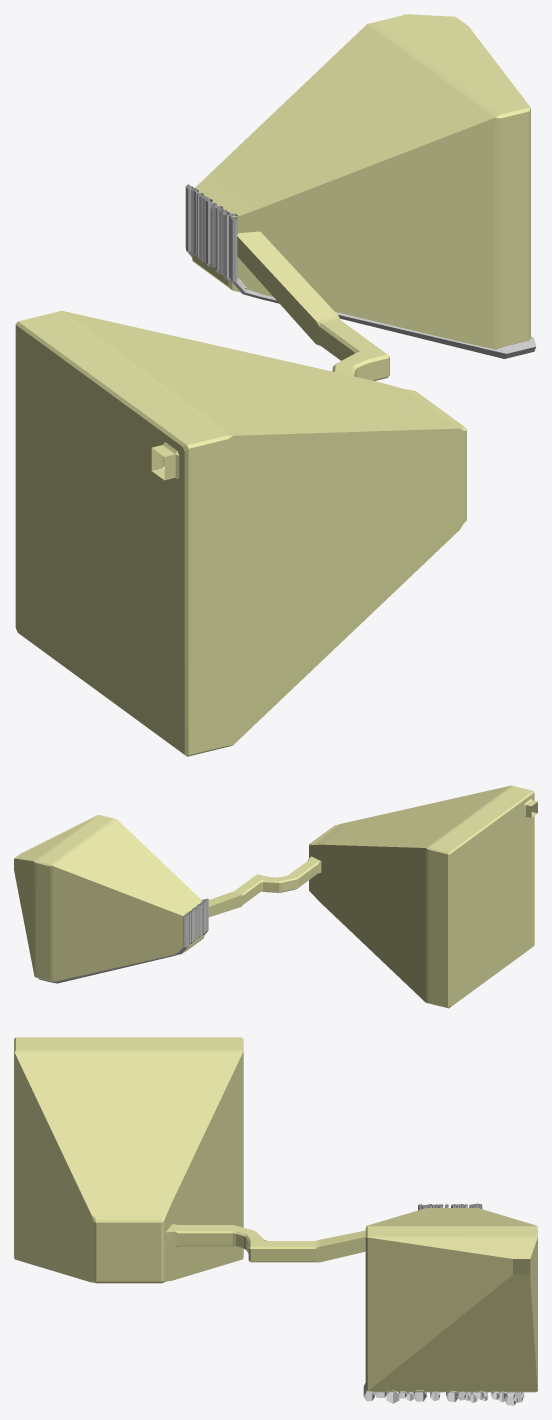
The model's file is Relay-Detail.fbx.
3 views of the same model, one above another, from view 1: azimuth 30°, elevation 25°; view 2: azimuth 150°, elevation 25°; view 3: azimuth 270°, elevation 25° (orthographic). The views are drawn at different scales.
Parts seen in each view (by area): view 1: 6-RelayDetail; view 2: 6-RelayDetail; view 3: 6-RelayDetail.
Boxes of the visible parts, left/top/right/bottom form: 6-RelayDetail: left=15, top=14, right=536, bottom=756; 6-RelayDetail: left=14, top=785, right=537, bottom=1008; 6-RelayDetail: left=14, top=1037, right=537, bottom=1405.
Bounding box in the file's own units: 900 × 400 × 913.
